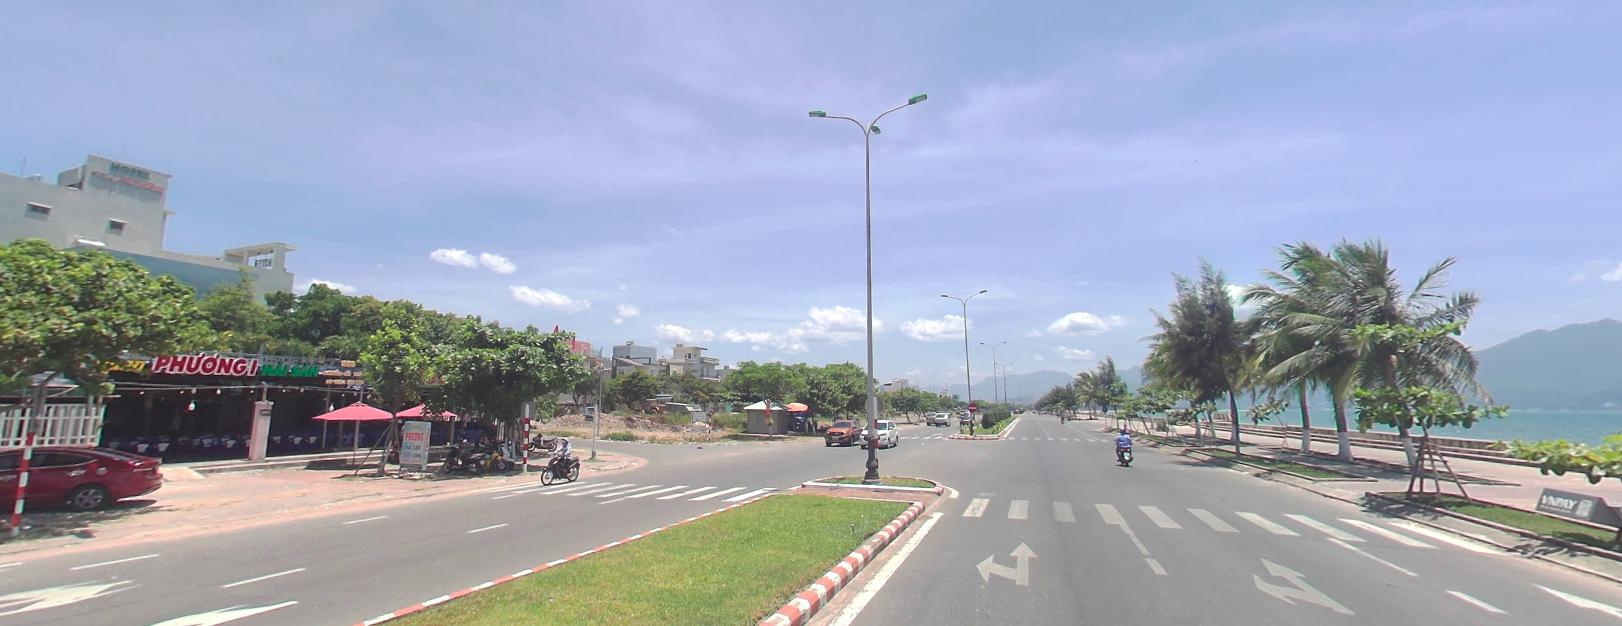Cam nguoc chieu: (968, 401, 976, 409)
